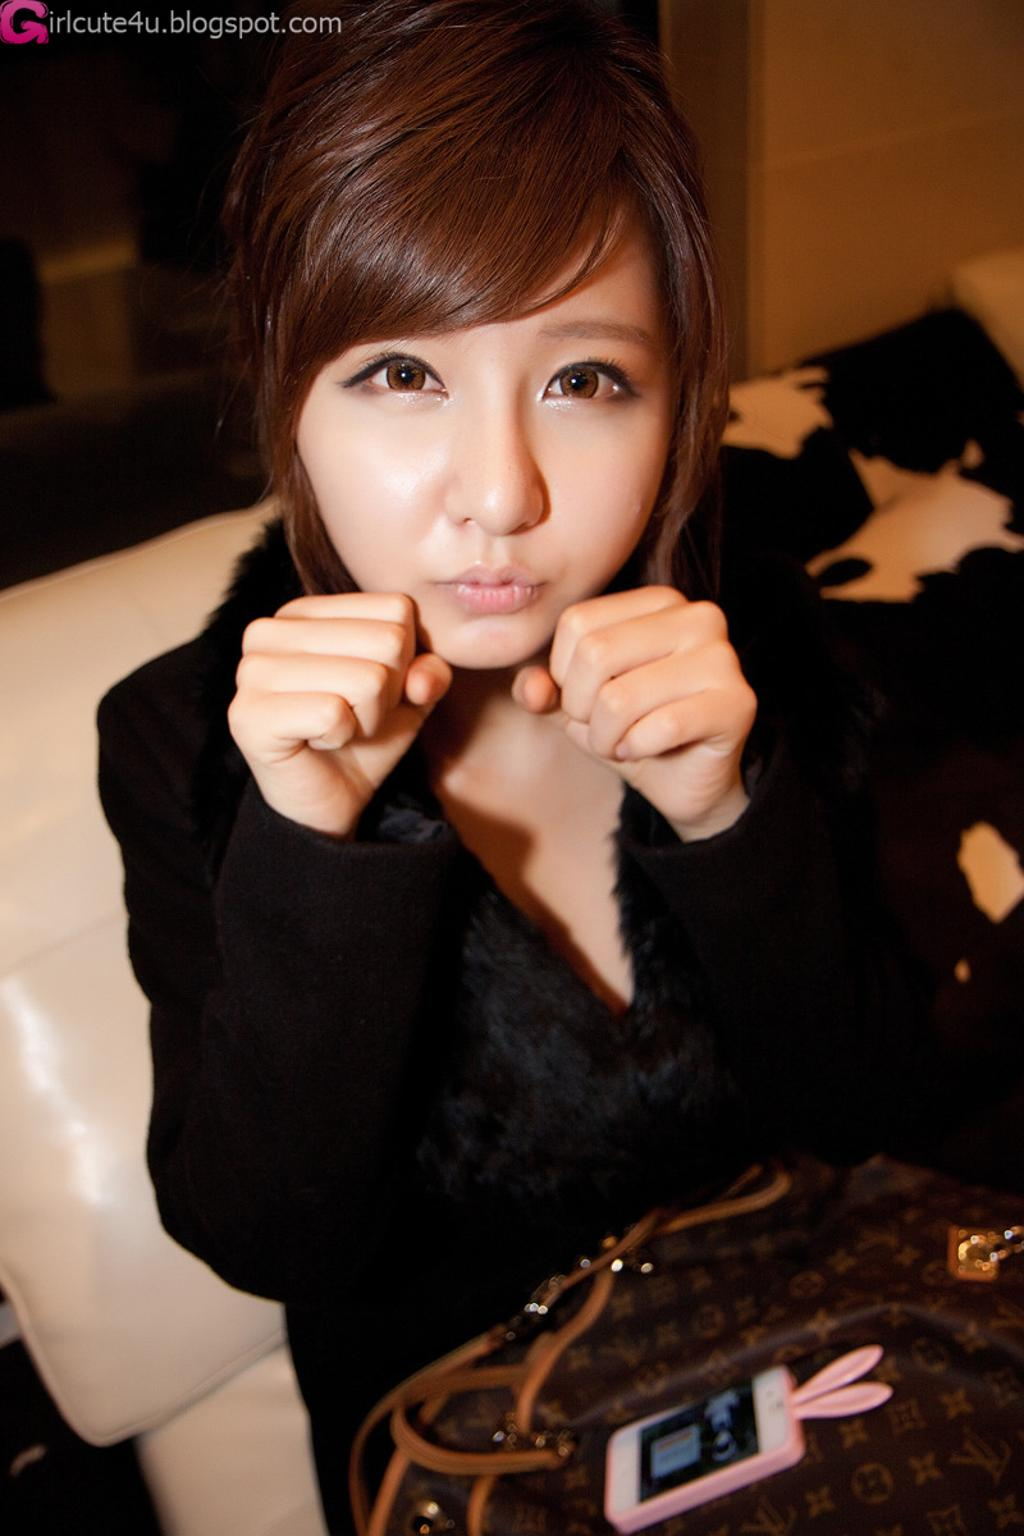face: (291, 159, 672, 669)
